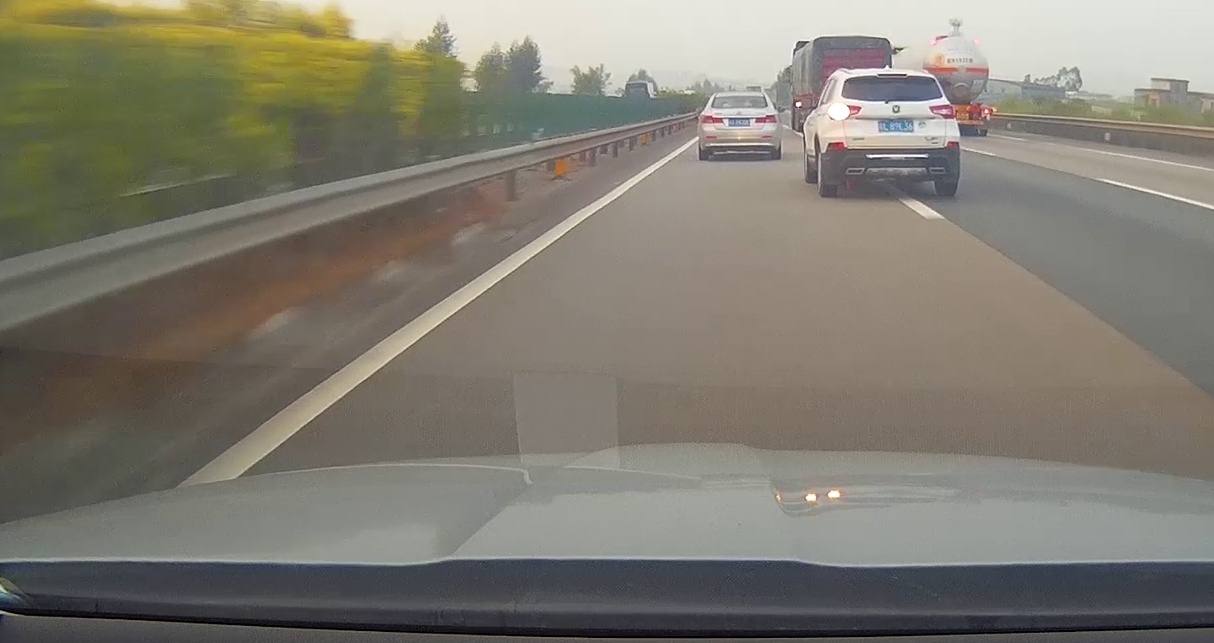L_light: (828, 103, 862, 120), (701, 115, 723, 124)
R_light: (929, 104, 956, 120), (755, 114, 777, 123)
T_light: (877, 73, 908, 77), (733, 95, 744, 98)
day-left: (824, 68, 960, 197)
day-no: (699, 91, 781, 160)
